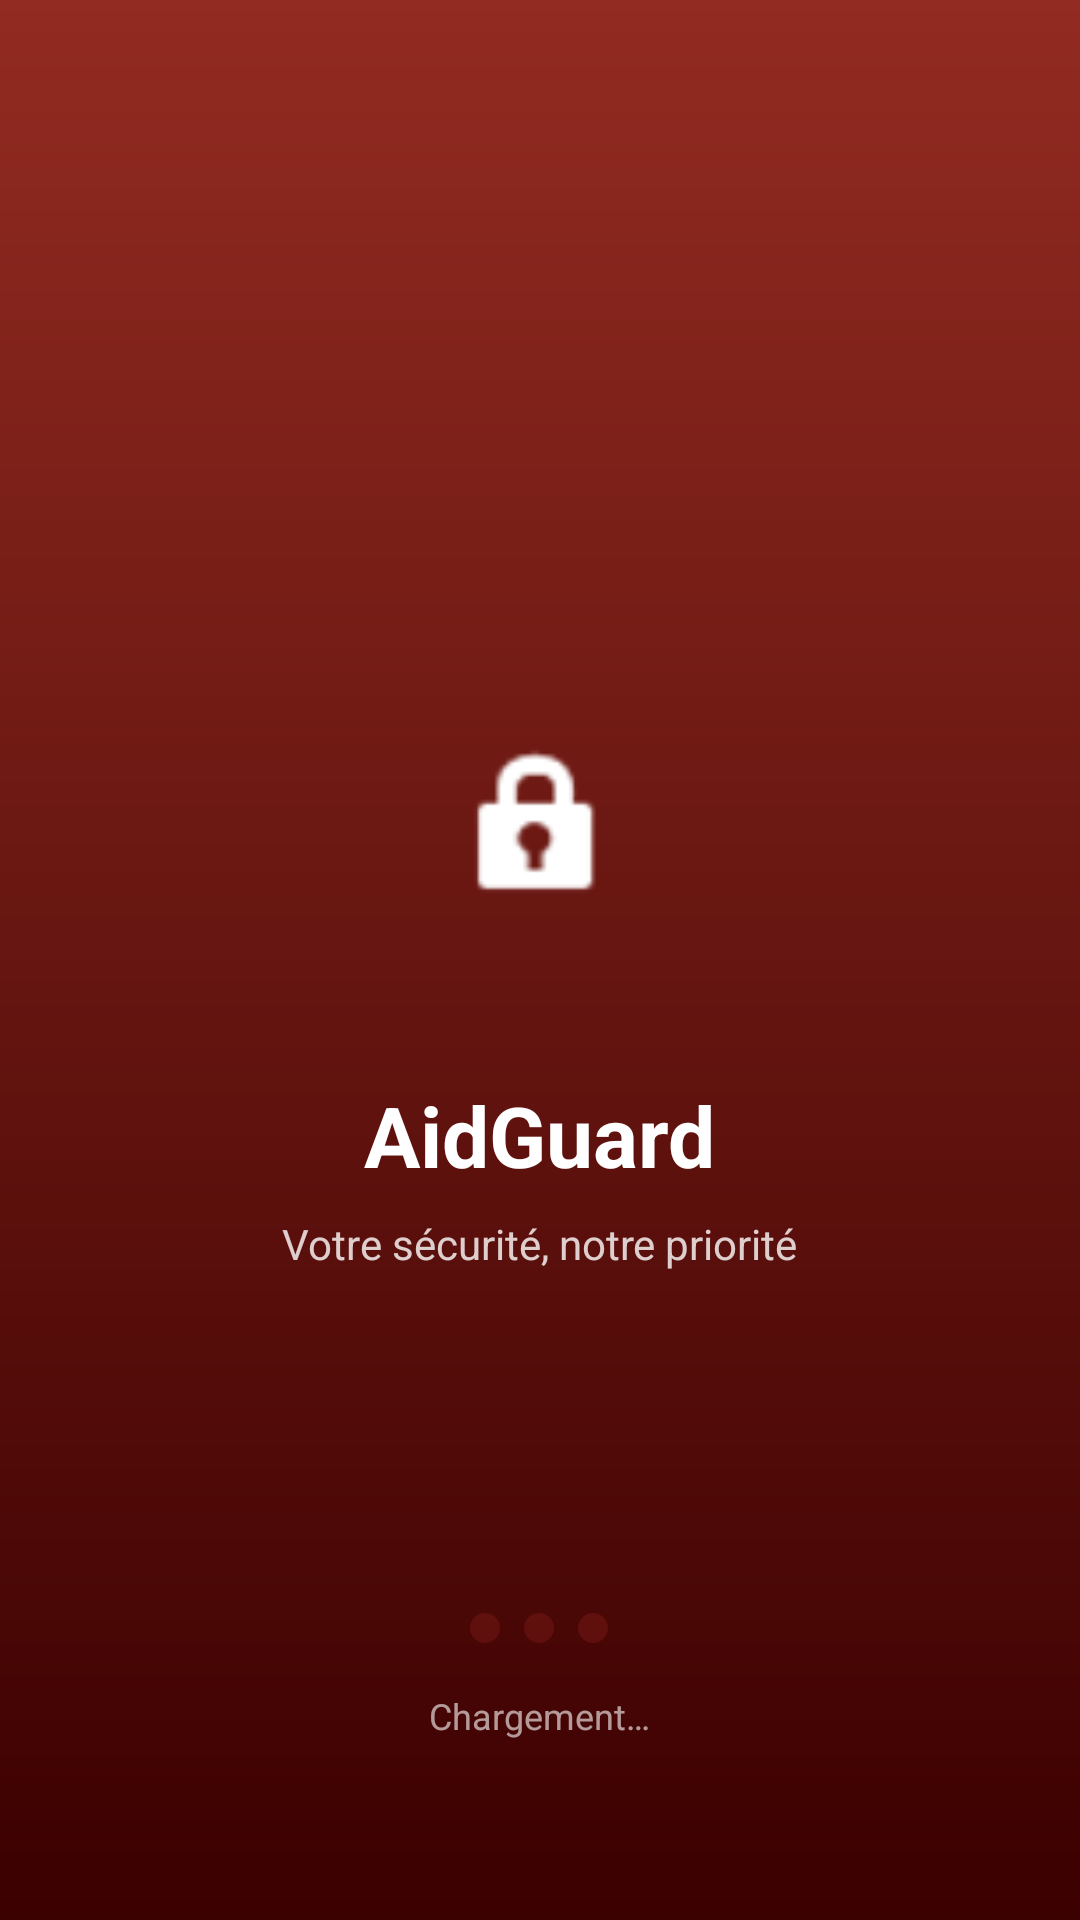

Where to tap for icons on this 1080*1920 app screen, as (x,y):
lock idle: (536,820)
